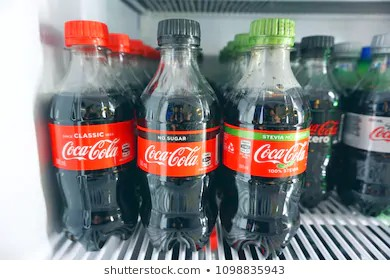coke-bottle-300ml: (46, 17, 140, 249)
colgate-family: (137, 14, 224, 254), (226, 18, 309, 253), (298, 32, 345, 213)
